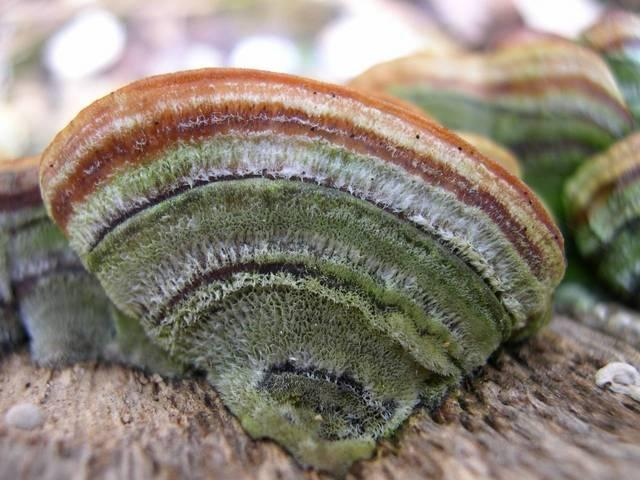poisonous_mushroom: (36, 64, 568, 476)
